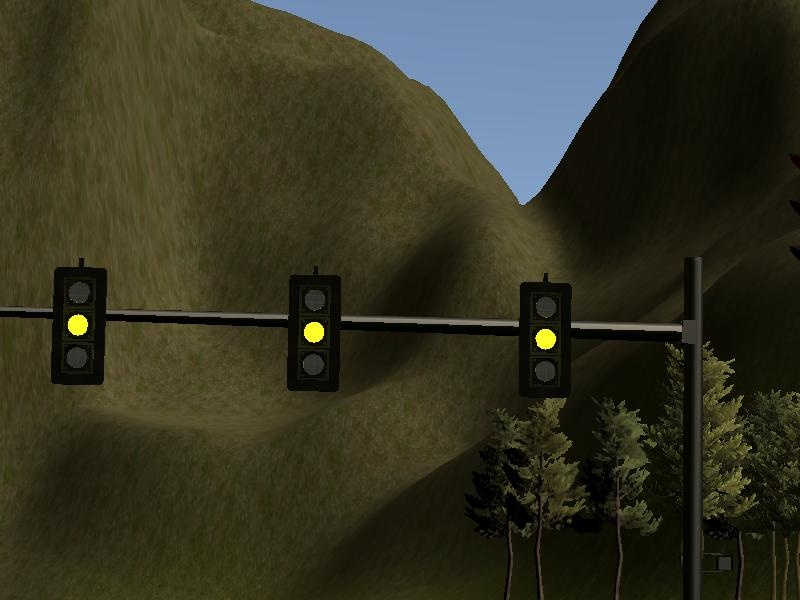YELLOW: (285, 274, 342, 391), (517, 281, 570, 400), (52, 267, 103, 386)
